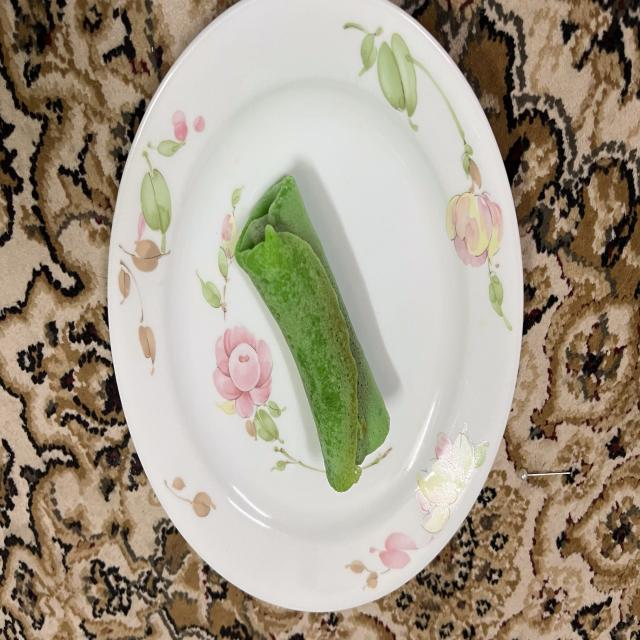Kuih-Ketayap: (235, 176, 390, 491)
